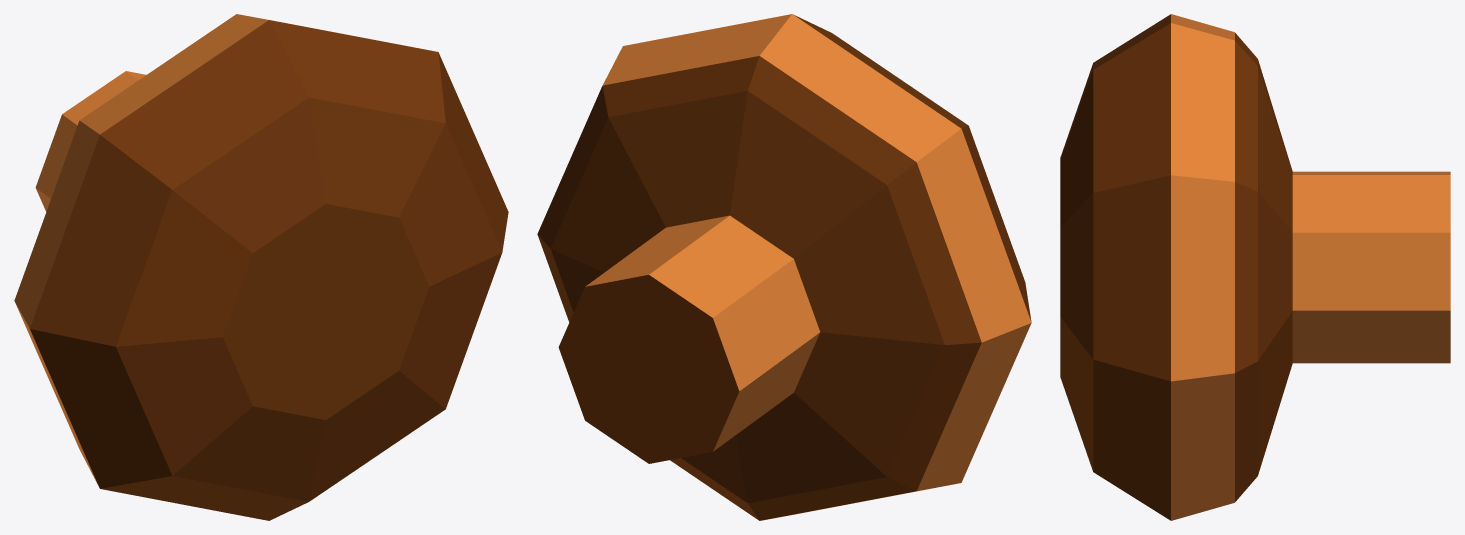
Rendered from Mushroom1.1.obj.
3 views of the same model, side by side, from view 1: azimuth 30°, elevation 25°; view 2: azimuth 150°, elevation 25°; view 3: azimuth 270°, elevation 25° (orthographic). The views are drawn at different scales.
Parts seen in each view (by area): view 1: Mushroom1.1; view 2: Mushroom1.1; view 3: Mushroom1.1.
Boxes of the visible parts, box(x1,y1,x2,y2) form: Mushroom1.1: box(14, 14, 508, 520); Mushroom1.1: box(537, 14, 1031, 520); Mushroom1.1: box(1060, 14, 1450, 520).
Size of the model in its own units: 0.1605 by 0.1605 by 0.1161.
